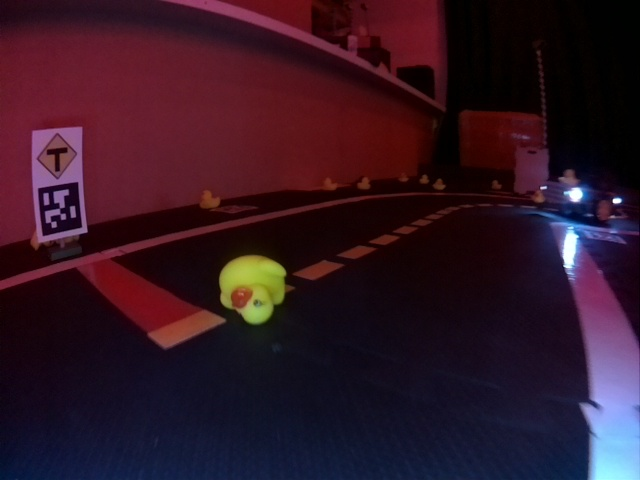Duckie: (218, 255, 286, 325), (200, 190, 220, 209), (559, 169, 580, 183), (321, 177, 337, 190)
Duckiebot: (542, 180, 611, 223)
Intersection sign: (36, 132, 79, 178)
QR code: (38, 182, 83, 234), (215, 203, 256, 213)
